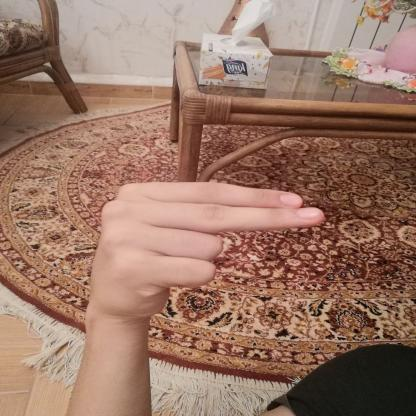AYN: (69, 163, 341, 338)
